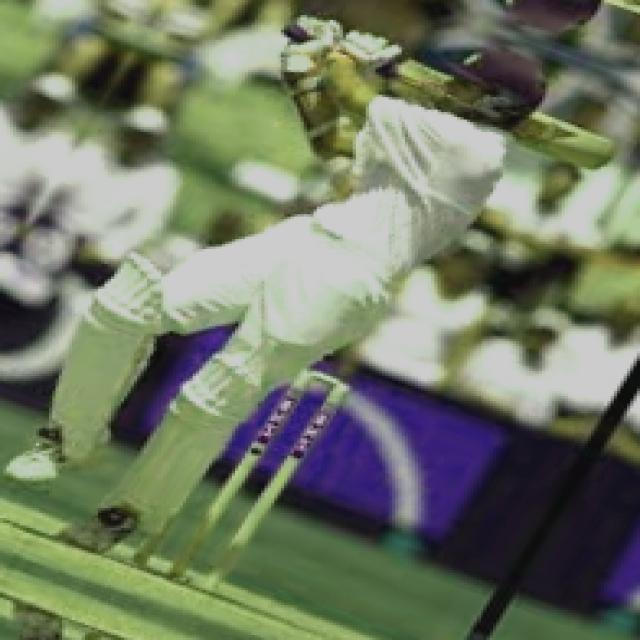toe: (593, 138, 619, 171)
